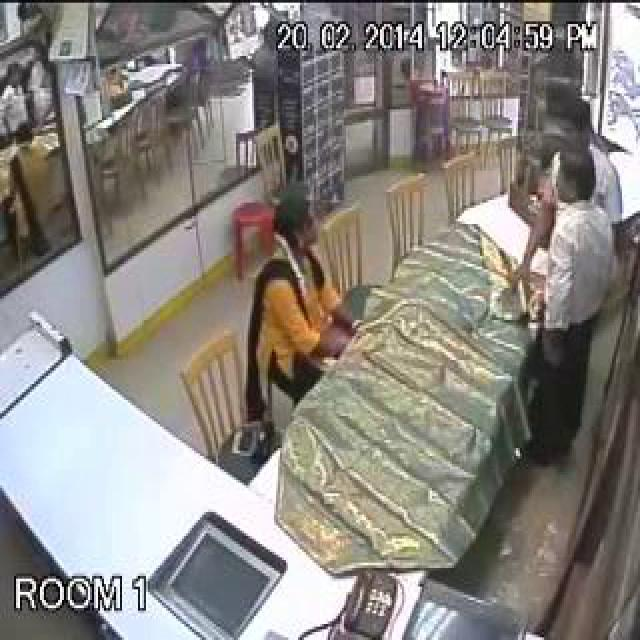shoplifting: (214, 135, 457, 600)
